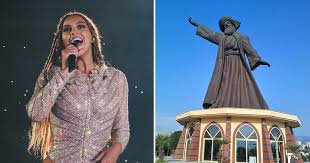middle_eastern_Female: (56, 13, 95, 56)
